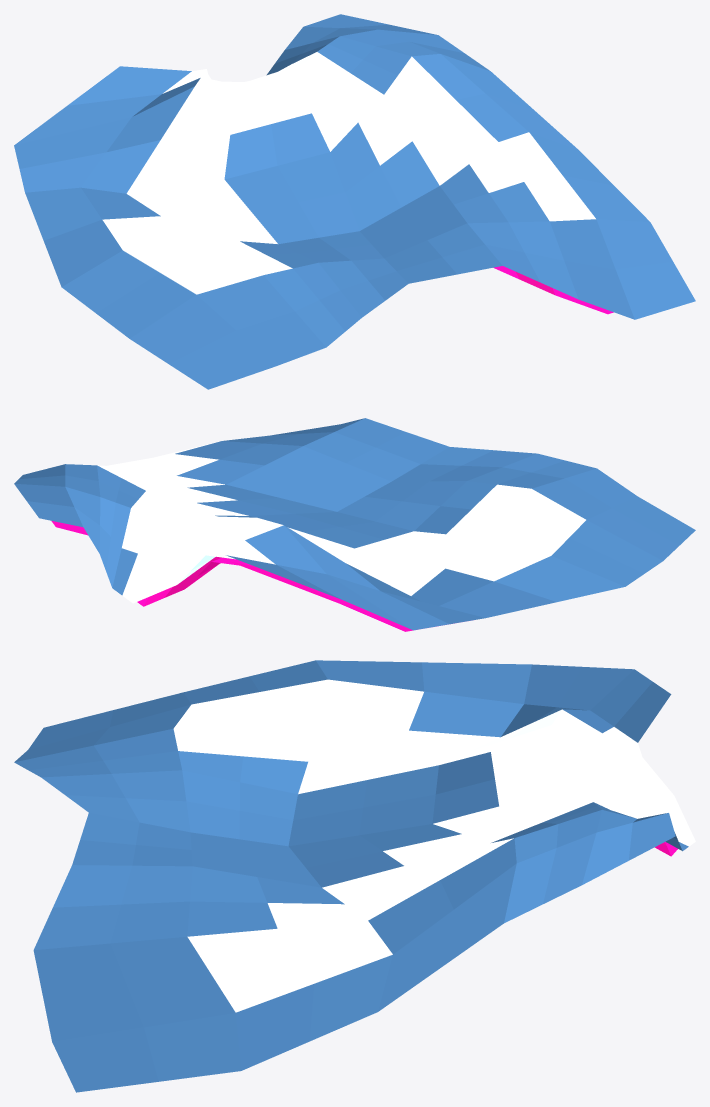
Rendered from Leaf.glb.
3 renders of one model, top to bottom at view 1: azimuth 30°, elevation 25°; view 2: azimuth 150°, elevation 25°; view 3: azimuth 270°, elevation 25°, orthographic. The views are drawn at different scales.
Visible parts, largest first — view 1: Leaf.001; view 2: Leaf.001; view 3: Leaf.001.
Boxes of the visible parts, box(x1,y1,x2,y2) form: Leaf.001: box(14, 14, 695, 389); Leaf.001: box(14, 418, 695, 631); Leaf.001: box(14, 660, 695, 1092).
Size of the model in its own units: 12.99 by 3.34 by 10.79.
1 material, 1 textured.
